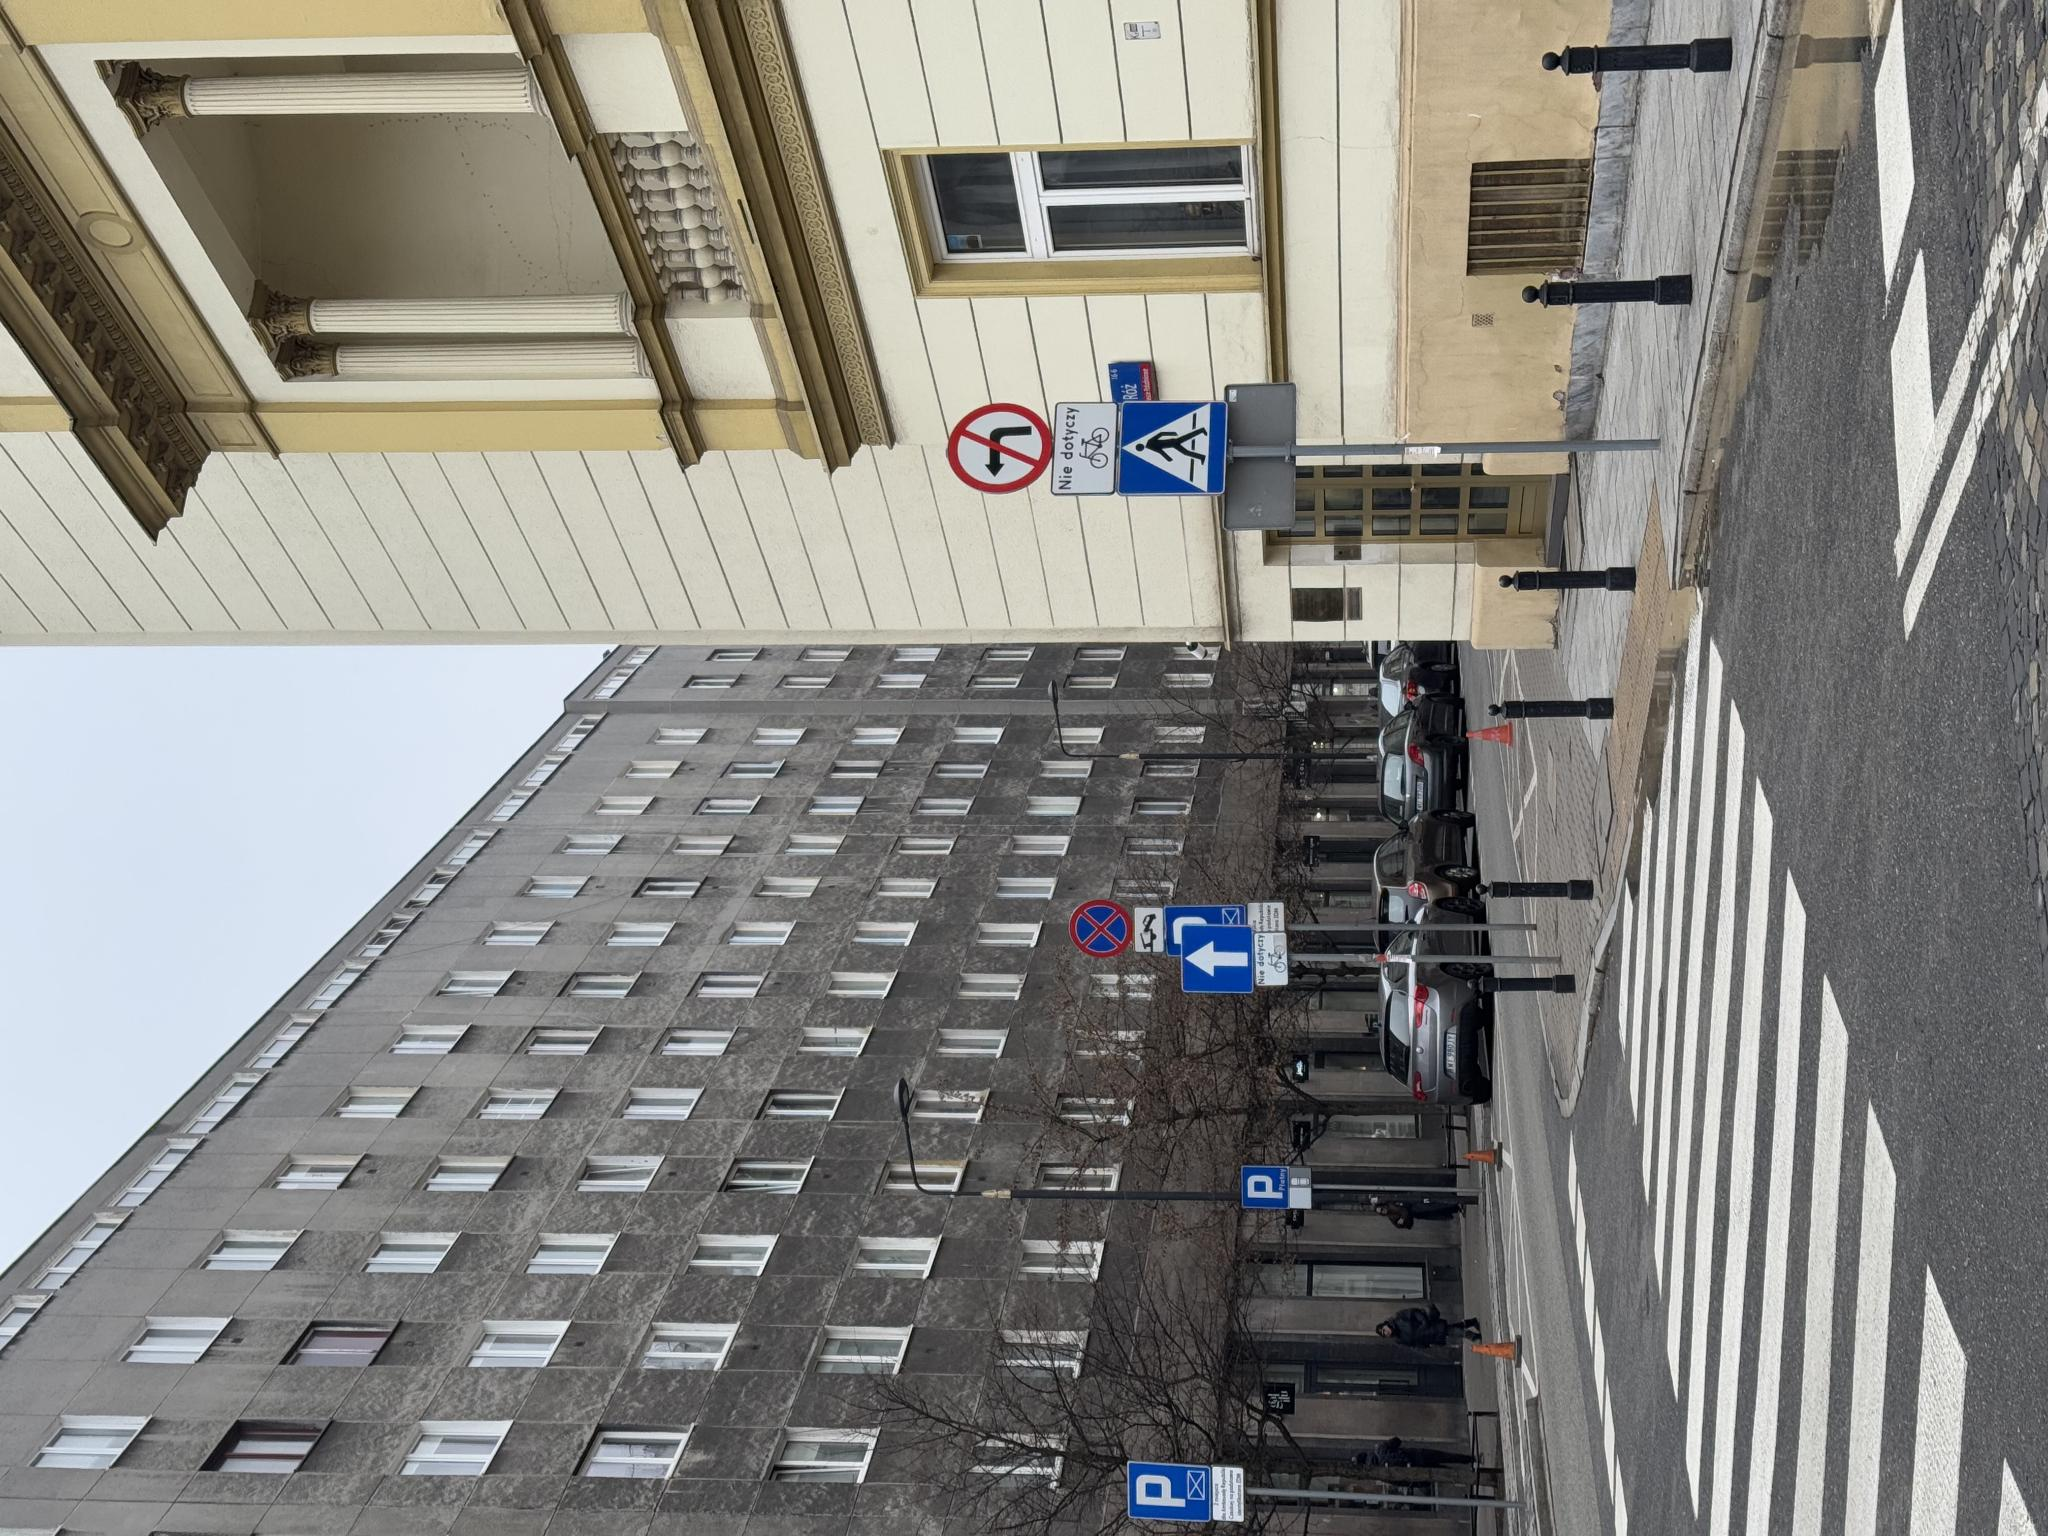information: (1039, 1117, 1135, 1226), (11, 1128, 77, 1212), (543, 1181, 613, 1255), (579, 1165, 634, 1247), (326, 1241, 371, 1289)
other: (1039, 1050, 1135, 1120), (550, 1255, 606, 1291), (15, 1213, 73, 1246), (582, 1134, 631, 1163), (324, 1288, 369, 1313), (603, 1247, 635, 1283)
prohibitory: (1039, 945, 1135, 1054), (577, 1066, 637, 1134)
